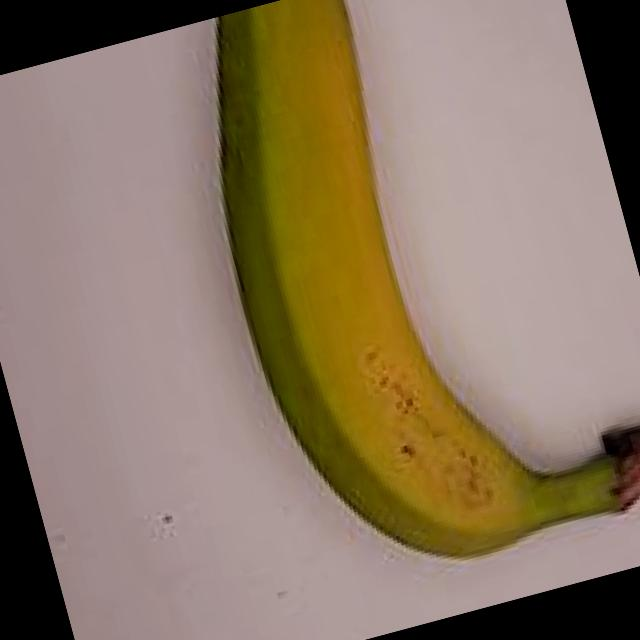Unripe: (131, 0, 640, 611)
